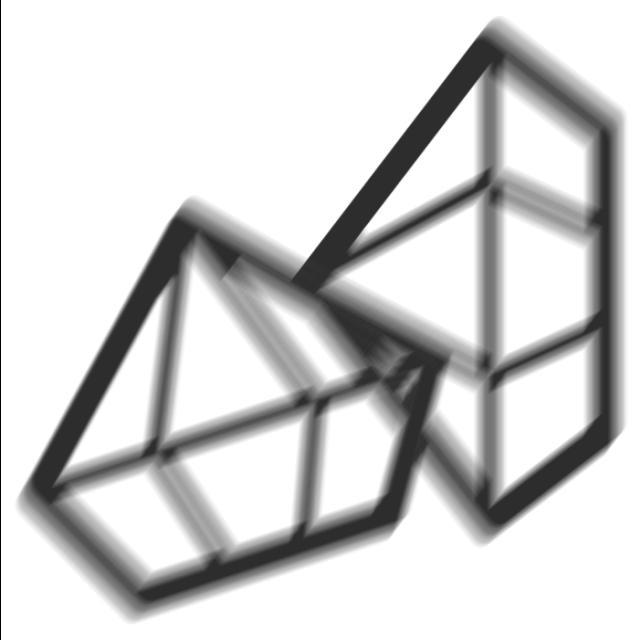diamond: (6, 182, 457, 633), (266, 12, 633, 564)
